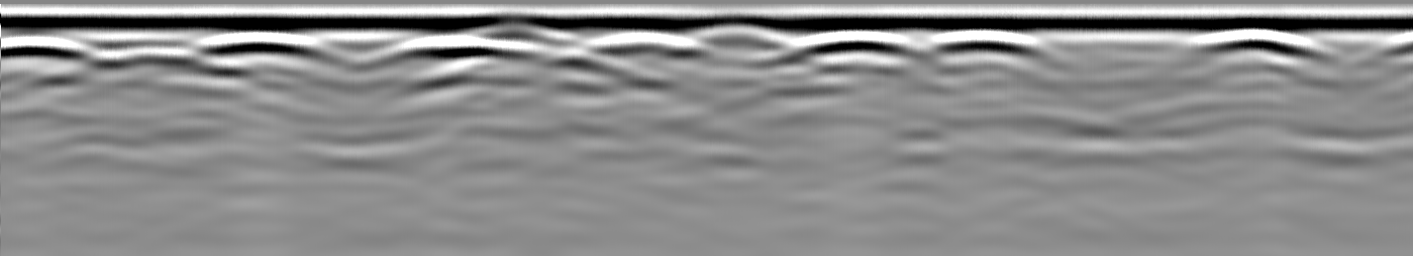pipe: (452, 13, 591, 50), (683, 15, 799, 52)
steel: (367, 33, 541, 69), (1180, 29, 1341, 66), (190, 29, 339, 67), (585, 28, 711, 62), (917, 33, 1051, 62), (788, 32, 922, 60), (1, 28, 97, 67)
